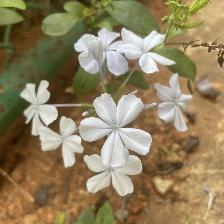chitrak: (80, 92, 154, 170), (71, 27, 128, 78), (81, 152, 147, 196), (119, 26, 178, 74), (40, 116, 84, 170), (156, 74, 195, 133), (20, 81, 60, 135)
